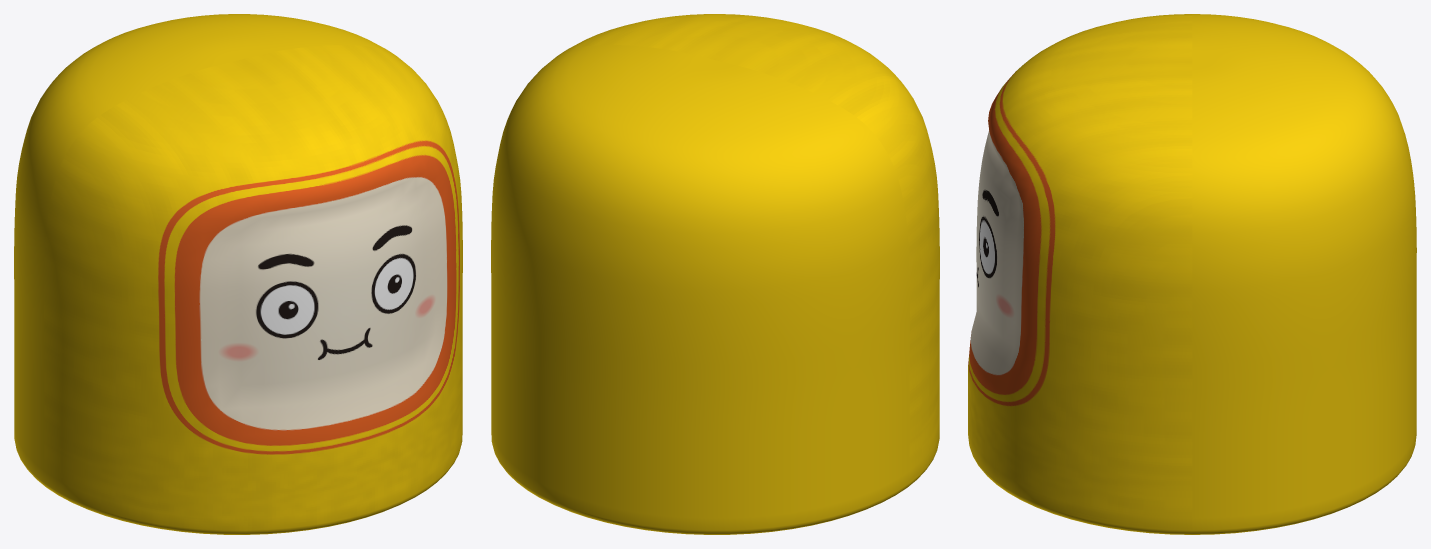
File: kidaru.fbx
The picture shows the model from 3 angles, left to right: view 1: azimuth 30°, elevation 25°; view 2: azimuth 150°, elevation 25°; view 3: azimuth 270°, elevation 25°; orthographic projection.
Visible parts, largest first — view 1: kidaru; view 2: kidaru; view 3: kidaru.
Part boxes in pixels (left/top/right/bottom): kidaru: left=14, top=14, right=462, bottom=534; kidaru: left=491, top=14, right=939, bottom=534; kidaru: left=968, top=14, right=1416, bottom=534.
Bounding box in the file's own units: 1 × 0.9425 × 1.
Materials: 1 (1 with a texture image).
